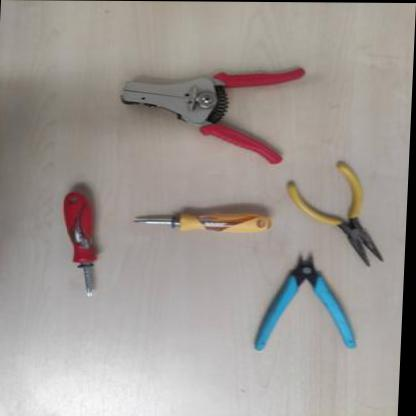Screwdriverrotation: (60, 190, 104, 297), (130, 205, 277, 235)
